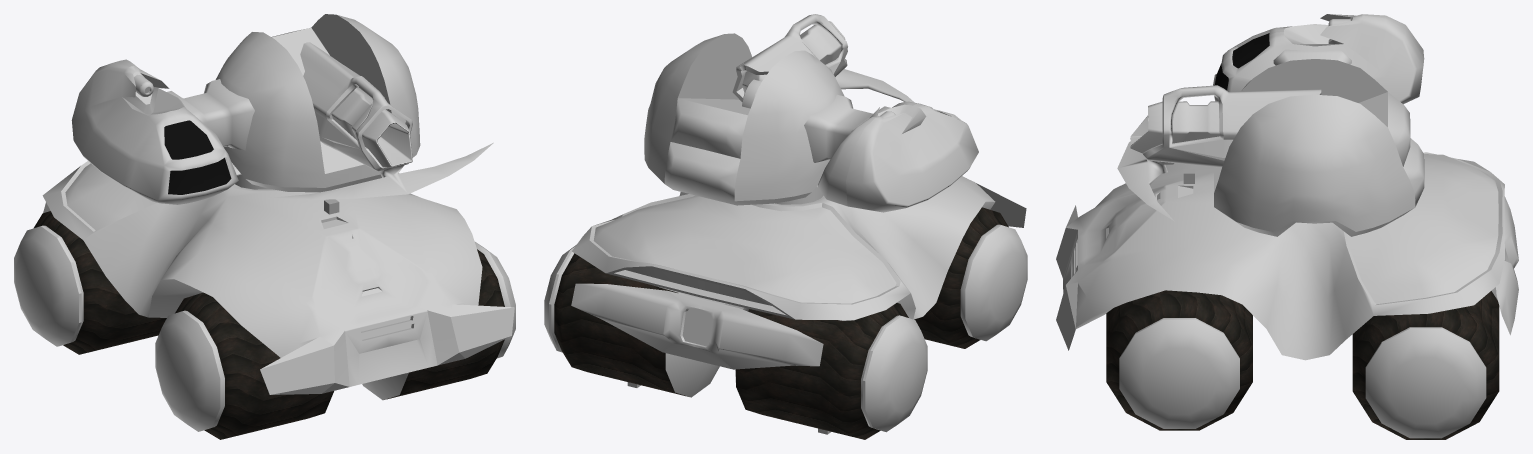
The model's file is evartl00.fbx.
3 views of the same model, side by side, from view 1: azimuth 30°, elevation 25°; view 2: azimuth 150°, elevation 25°; view 3: azimuth 270°, elevation 25° (orthographic). The views are drawn at different scales.
Parts seen in each view (by area): view 1: mainbody, turret, canopy, tractor_r, tread_r, turret_x, recoil_1, tractor_l, cockpit_entry, tread_l; view 2: mainbody, turret, tractor_r, bumper_back, canopy, tread_r, tractor_l, tread_l, recoil_1, cockpit_entry, turret_x; view 3: mainbody, turret, tread_l, tractor_l, canopy, recoil_1, turret_x, bumper_back, cockpit_entry.
Boxes of the visible parts, x1=… form: mainbody: x1=42, y1=161, x2=514, y2=394; turret: x1=215, y1=14, x2=420, y2=192; canopy: x1=71, y1=59, x2=238, y2=204; tractor_r: x1=34, y1=211, x2=333, y2=439; tread_r: x1=14, y1=225, x2=224, y2=431; turret_x: x1=267, y1=87, x2=493, y2=199; recoil_1: x1=300, y1=42, x2=412, y2=171; tractor_l: x1=386, y1=249, x2=504, y2=399; cockpit_entry: x1=167, y1=79, x2=254, y2=150; tread_l: x1=362, y1=173, x2=515, y2=400; mainbody: x1=572, y1=176, x2=1026, y2=320; turret: x1=644, y1=33, x2=844, y2=205; tractor_r: x1=736, y1=207, x2=1008, y2=439; bumper_back: x1=571, y1=283, x2=823, y2=369; canopy: x1=818, y1=101, x2=978, y2=212; tread_r: x1=735, y1=224, x2=1027, y2=432; tractor_l: x1=554, y1=253, x2=688, y2=396; tread_l: x1=544, y1=245, x2=725, y2=397; recoil_1: x1=732, y1=14, x2=847, y2=101; cockpit_entry: x1=804, y1=94, x2=890, y2=162; turret_x: x1=742, y1=21, x2=914, y2=102; mainbody: x1=1056, y1=152, x2=1504, y2=360; turret: x1=1214, y1=59, x2=1424, y2=236; tread_l: x1=1119, y1=318, x2=1486, y2=438; tractor_l: x1=1106, y1=290, x2=1499, y2=439; canopy: x1=1213, y1=14, x2=1424, y2=104; recoil_1: x1=1143, y1=85, x2=1321, y2=167; turret_x: x1=1117, y1=101, x2=1219, y2=221; bumper_back: x1=1496, y1=196, x2=1518, y2=335; cockpit_entry: x1=1273, y1=49, x2=1351, y2=65.
Size of the model in its own units: 7.5 by 6.2 by 8.16.
